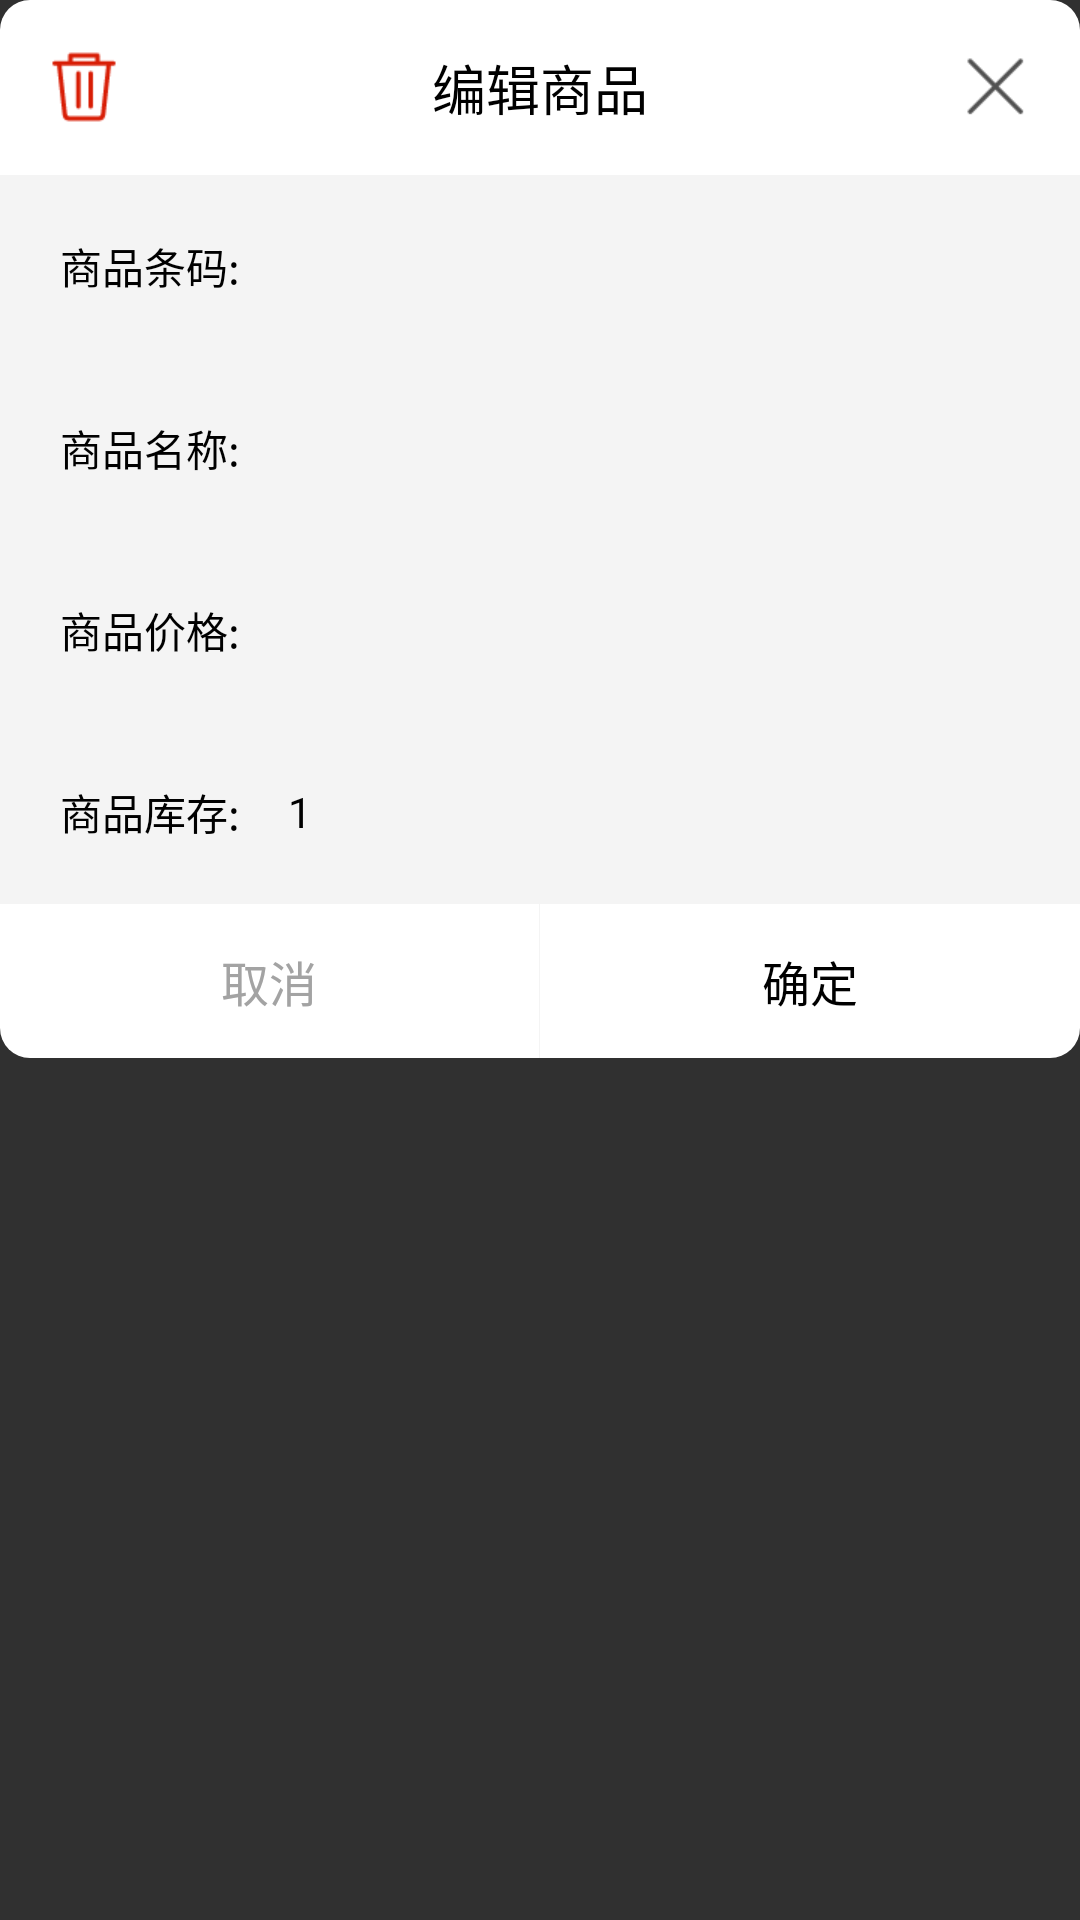

Icons on this 1080 × 1920 Android screen, each with its box as [x1=x1, y1=y1, x2=x2, y2=y2]:
close: [x1=967, y1=58, x2=1024, y2=115]
delete: [x1=52, y1=52, x2=116, y2=122]
